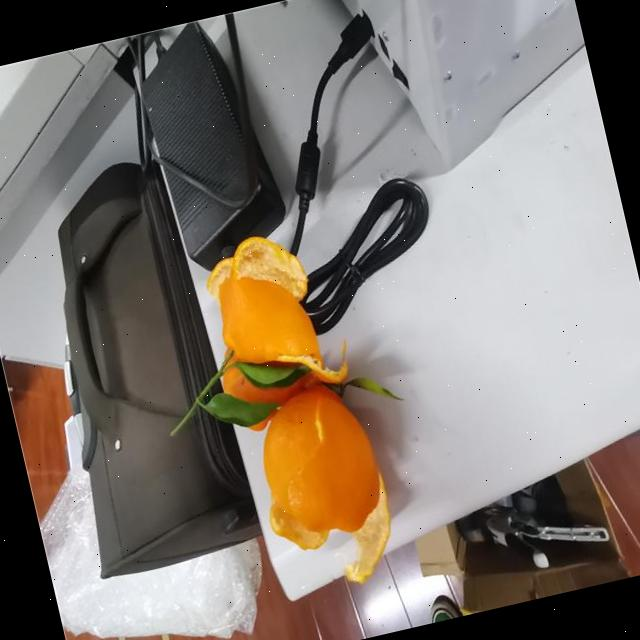orange-peel: (241, 374, 393, 556)
